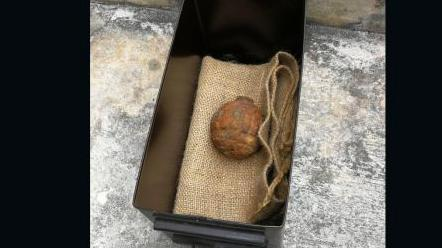Grenade: (209, 95, 265, 161)
